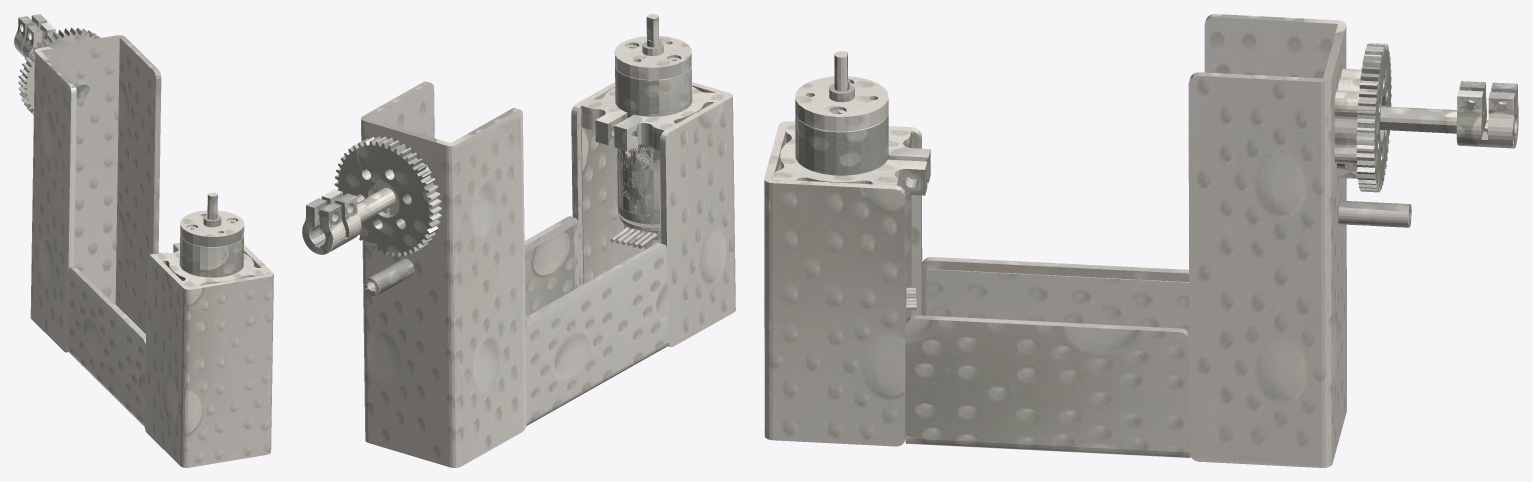
Rendered from corner_lb.dae.
3 views of the same model, side by side, from view 1: azimuth 30°, elevation 25°; view 2: azimuth 150°, elevation 25°; view 3: azimuth 270°, elevation 25° (orthographic). The views are drawn at different scales.
Parts seen in each view (by area): view 1: corner_lb; view 2: corner_lb; view 3: corner_lb.
Boxes of the visible parts, x1,y1,x2,y2 form: corner_lb: (14,14,273,467); corner_lb: (302,14,735,467); corner_lb: (764,14,1518,467).
Bounding box in the file's own units: 0.0592 × 0.2011 × 0.1154.
1 material, 1 textured.
